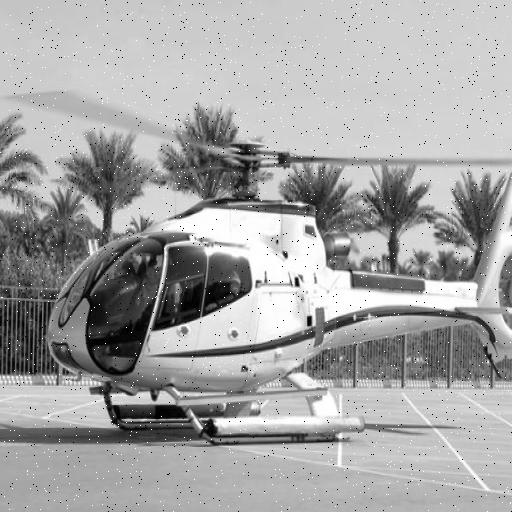helicopter: (33, 89, 512, 454)
